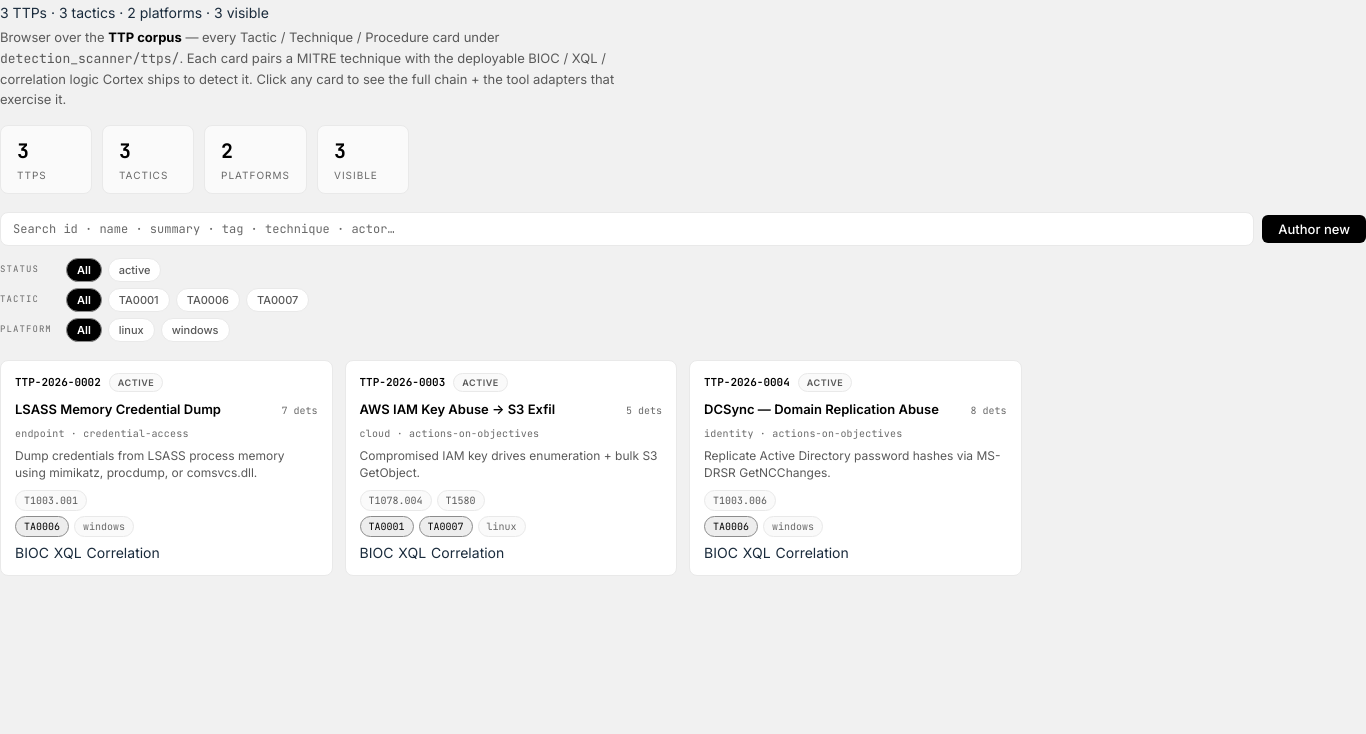
Test case: <TtpBrowserView /> › clicking a card opens detail with summary + adapter cross-refs
The image size is (1366, 734).
Step 1. Click the button with test id "ttp-card-TTP-2026-0004" → (747, 382), box [689, 360, 1022, 576]
(page scrolled)
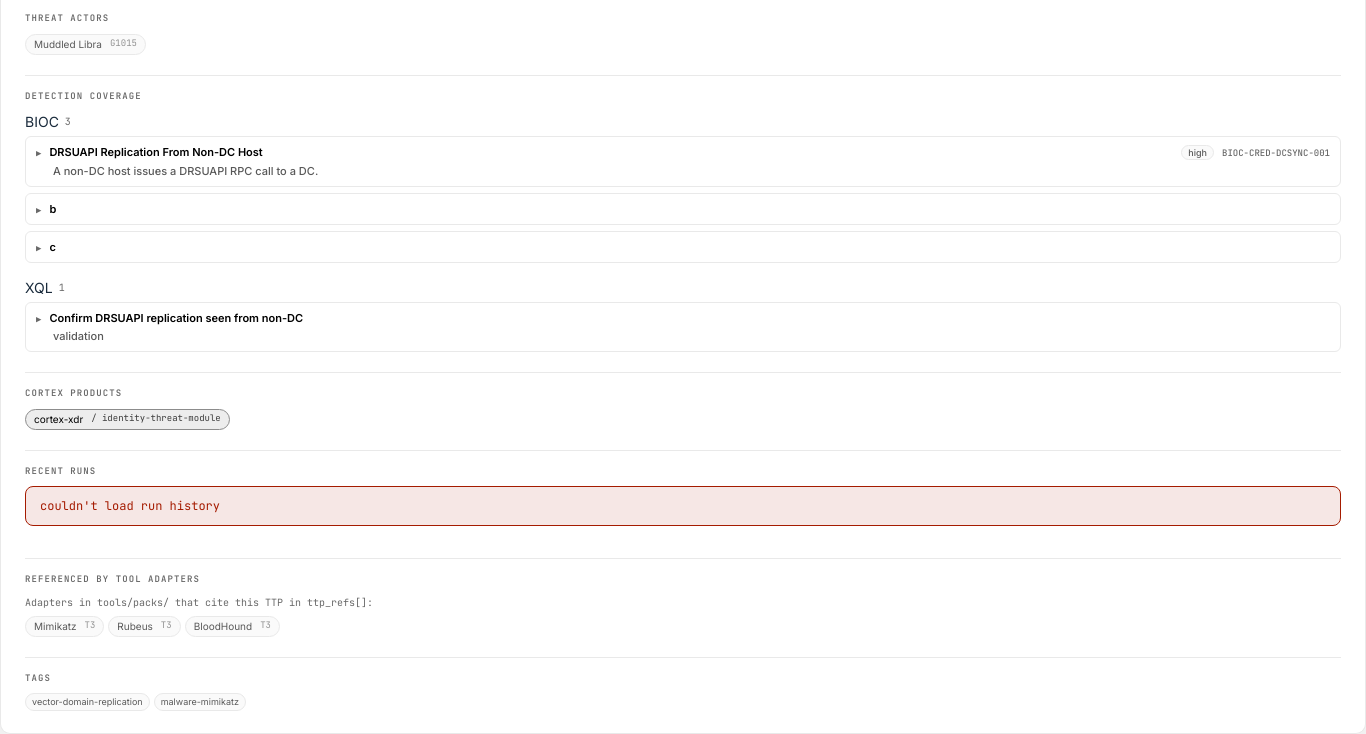
Now the element with test id "ttp-adapter-ref-TOOL-MIMIKATZ" is shown, box [25, 616, 104, 637]
Now the element with test id "ttp-adapter-ref-TOOL-RUBEUS" is shown, box [108, 616, 181, 637]
Now the element with test id "ttp-adapter-ref-TOOL-BLOODHOUND" is shown, box [185, 616, 280, 637]
